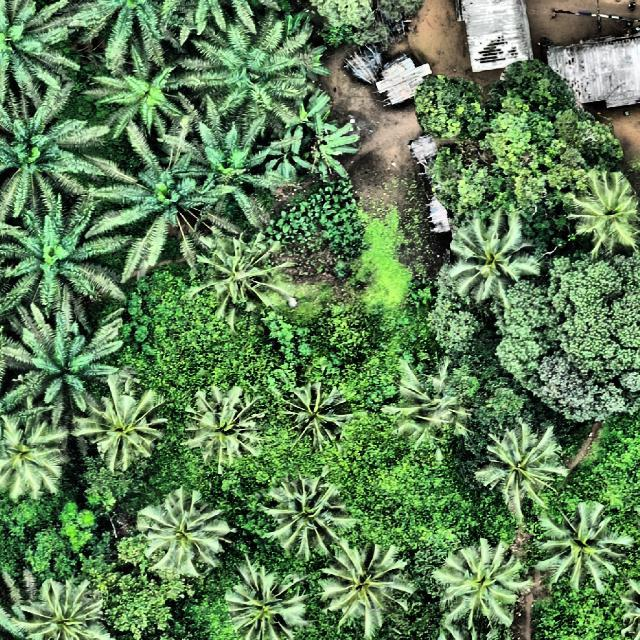Kelapa_Sawit: (20, 311, 114, 417), (208, 27, 309, 118), (10, 206, 101, 306), (3, 112, 94, 212), (474, 424, 570, 510), (534, 502, 624, 590), (398, 361, 484, 453), (436, 540, 525, 628), (130, 156, 216, 247), (202, 234, 288, 320), (452, 219, 534, 308), (142, 490, 226, 576), (325, 546, 413, 626), (101, 52, 190, 130), (0, 0, 67, 102), (280, 112, 361, 196), (185, 383, 262, 469), (204, 127, 274, 220), (266, 481, 356, 553), (562, 169, 640, 250), (225, 564, 306, 640), (19, 575, 110, 640), (292, 378, 363, 455), (90, 397, 162, 472), (0, 417, 64, 492)
